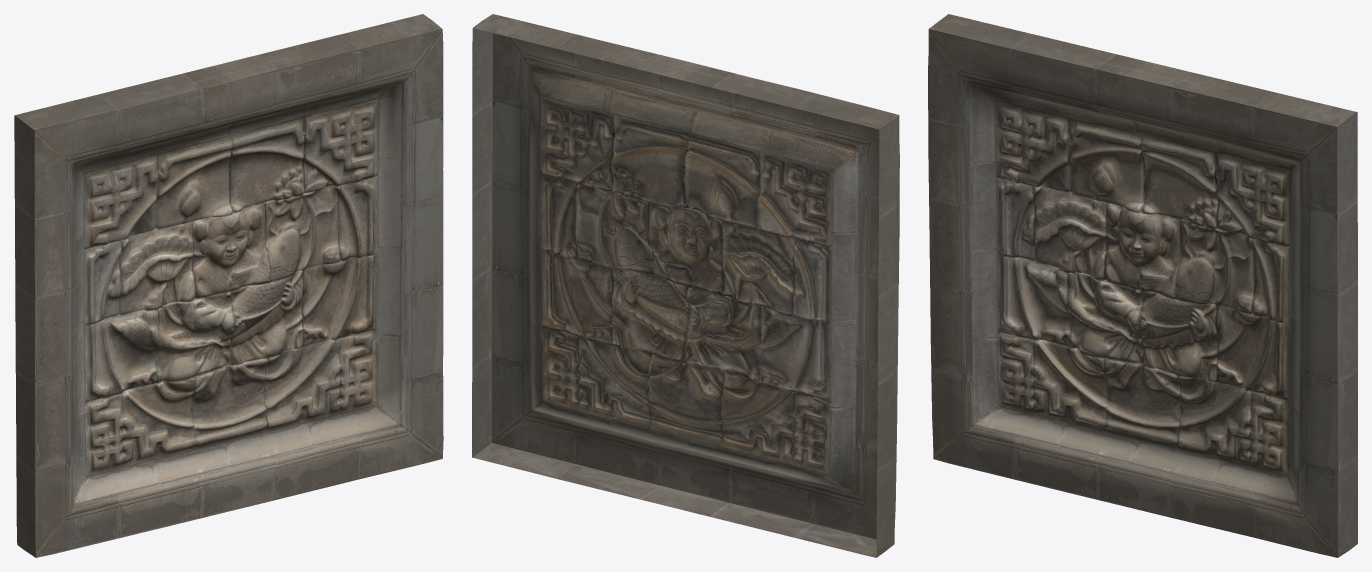
The model's file is flat wall chinese_relief.glb.
3 views of the same model, side by side, from view 1: azimuth 30°, elevation 25°; view 2: azimuth 150°, elevation 25°; view 3: azimuth 330°, elevation 25° (orthographic).
Parts seen in each view (by area): view 1: Object_3, Object_2; view 2: Object_3, Object_2; view 3: Object_3, Object_2.
Boxes of the visible parts, <box> form: Object_3: <box>34,29,443,557</box>; Object_2: <box>14,14,441,557</box>; Object_3: <box>492,33,879,539</box>; Object_2: <box>472,14,899,557</box>; Object_3: <box>928,29,1337,557</box>; Object_2: <box>929,14,1357,557</box>.
Bounding box in the file's own units: 1.45 × 1.46 × 0.1306.
1 material, 1 textured.
